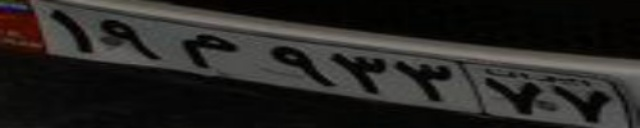1: (46, 9, 90, 54)
3: (391, 58, 454, 102), (332, 53, 386, 94)
7: (481, 76, 546, 115), (551, 83, 612, 124)
9: (262, 45, 330, 87), (98, 17, 156, 61)
mim: (176, 33, 238, 69)
